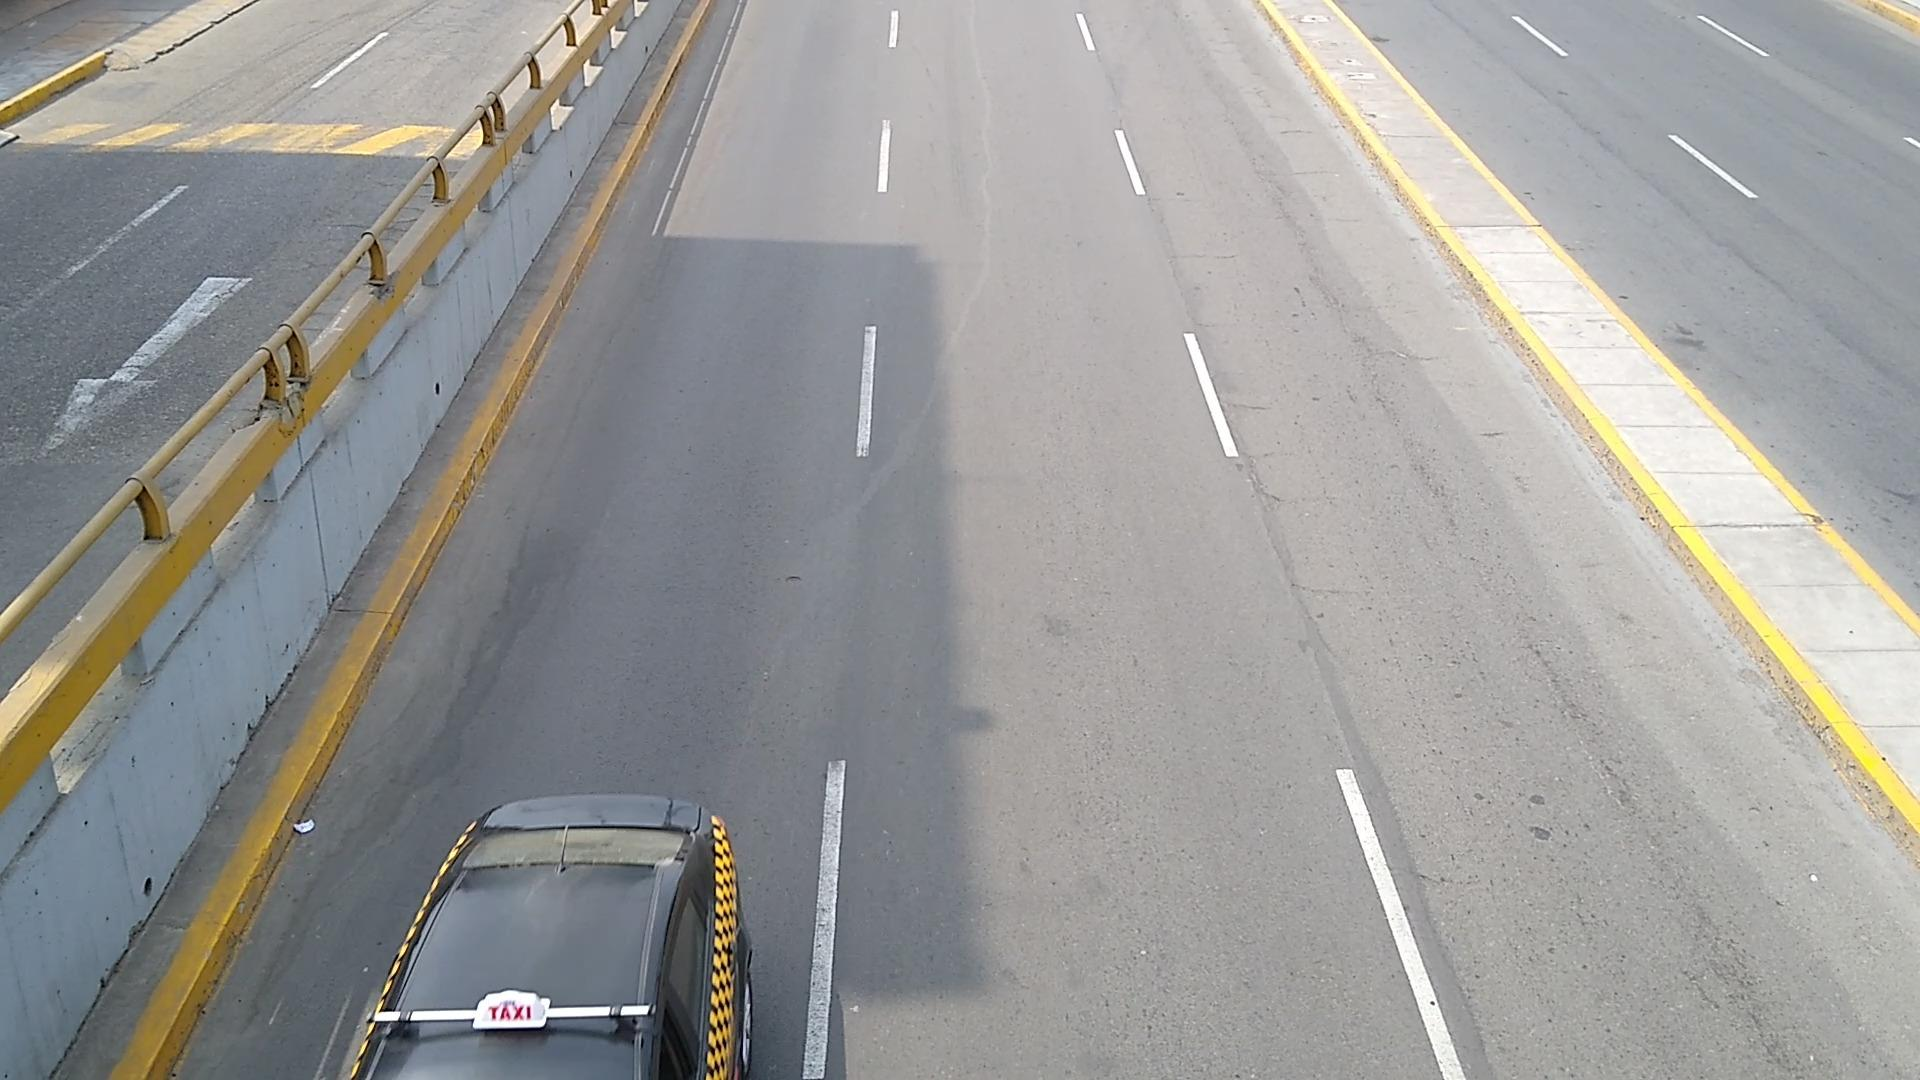car: (352, 795, 754, 1080)
